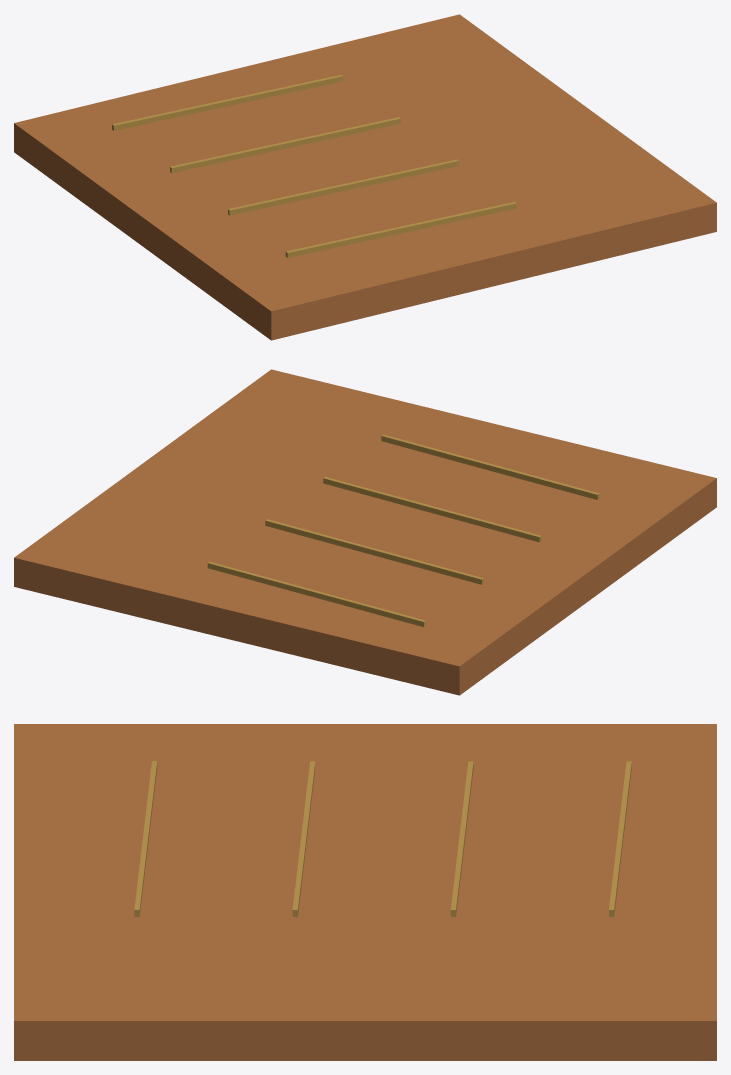
The model's file is terrain-lava-flat.lod0.glb.
The picture shows the model from 3 angles, top to bottom: view 1: azimuth 30°, elevation 25°; view 2: azimuth 150°, elevation 25°; view 3: azimuth 270°, elevation 25°; orthographic projection. The views are drawn at different scales.
Parts seen in each view (by area): view 1: terrain-lava-flat__body; view 2: terrain-lava-flat__body; view 3: terrain-lava-flat__body.
Part boxes in pixels (<box>): terrain-lava-flat__body: <box>14,14,716,340</box>; terrain-lava-flat__body: <box>14,369,716,695</box>; terrain-lava-flat__body: <box>14,724,716,1060</box>.
Bounding box in the file's own units: 2 × 0.1475 × 2.
